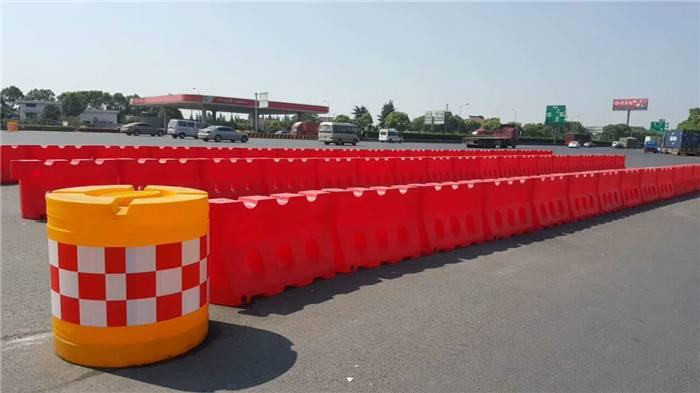sign: (45, 175, 209, 364), (218, 180, 407, 301), (408, 175, 569, 255), (571, 166, 700, 211)
